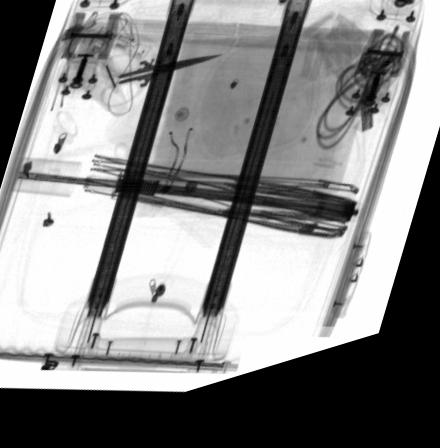Scissors: (98, 56, 225, 118)
